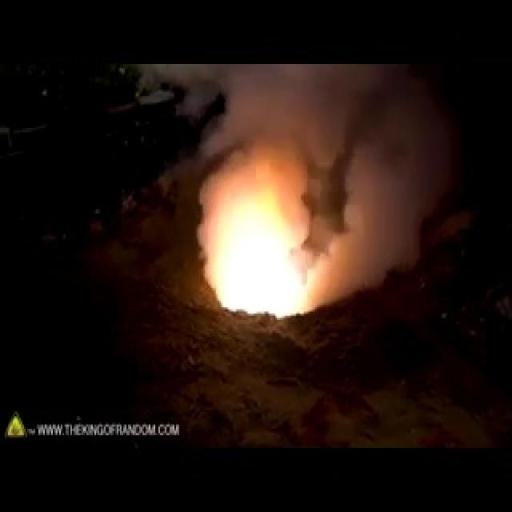smoke: (190, 172, 310, 306)
